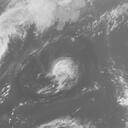cyclone: (48, 57, 78, 91)
